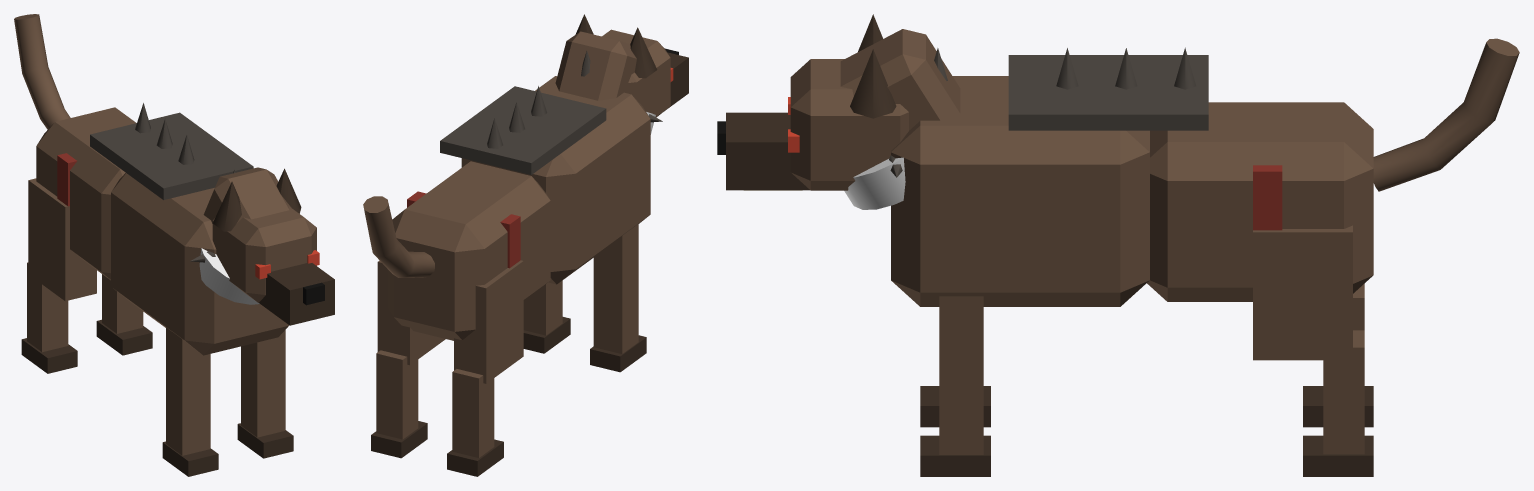
The picture shows the model from 3 angles, left to right: view 1: azimuth 30°, elevation 25°; view 2: azimuth 150°, elevation 25°; view 3: azimuth 270°, elevation 25°; orthographic projection. The views are drawn at different scales.
Visible parts, largest first — view 1: raider_body_hound; view 2: raider_body_hound; view 3: raider_body_hound.
Boxes of the visible parts, box(x1,y1,x2,y2) form: raider_body_hound: box(14, 14, 334, 476); raider_body_hound: box(363, 14, 688, 476); raider_body_hound: box(717, 14, 1519, 476).
Bounding box in the file's own units: 0.32 × 0.77 × 1.36.
